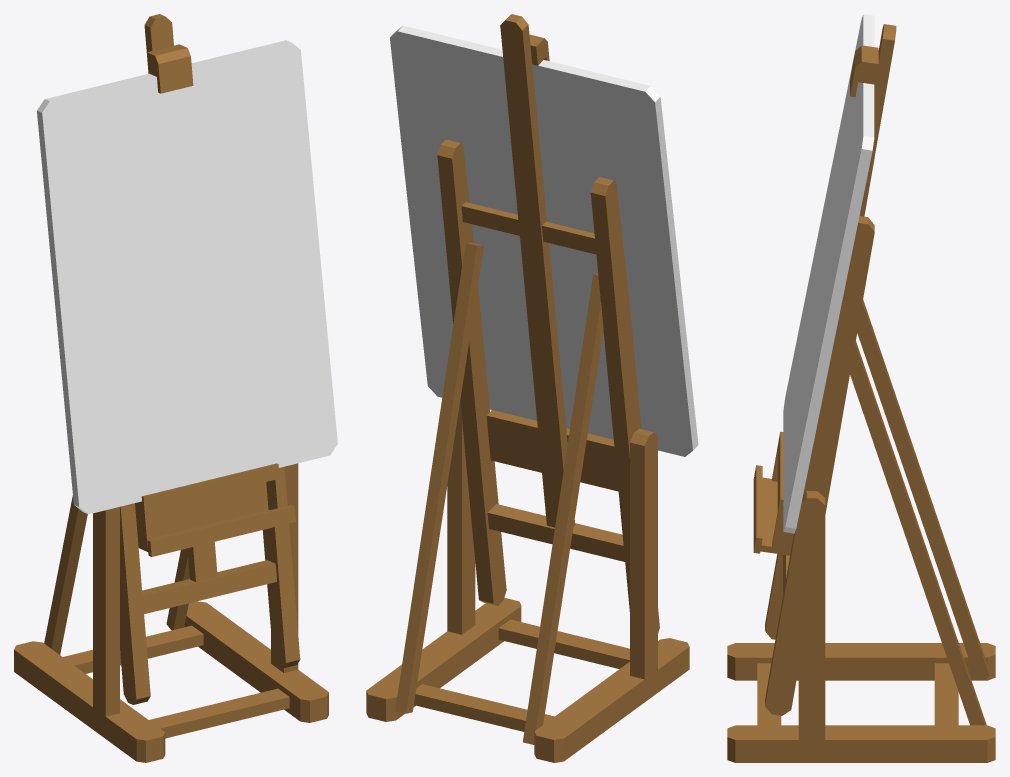
Rendered from furniture_stand-easel-canvas-vertical-blank.fbx.
3 views of the same model, side by side, from view 1: azimuth 30°, elevation 25°; view 2: azimuth 150°, elevation 25°; view 3: azimuth 270°, elevation 25° (orthographic). The views are drawn at different scales.
Parts seen in each view (by area): view 1: furniture_stand_easel_canvas_vertical_blank; view 2: furniture_stand_easel_canvas_vertical_blank; view 3: furniture_stand_easel_canvas_vertical_blank.
Boxes of the visible parts, left/top/right/bottom form: furniture_stand_easel_canvas_vertical_blank: left=14, top=14, right=337, bottom=762; furniture_stand_easel_canvas_vertical_blank: left=366, top=14, right=698, bottom=762; furniture_stand_easel_canvas_vertical_blank: left=727, top=14, right=995, bottom=762.
Size of the model in its own units: 81.1 by 200 by 70.64.
